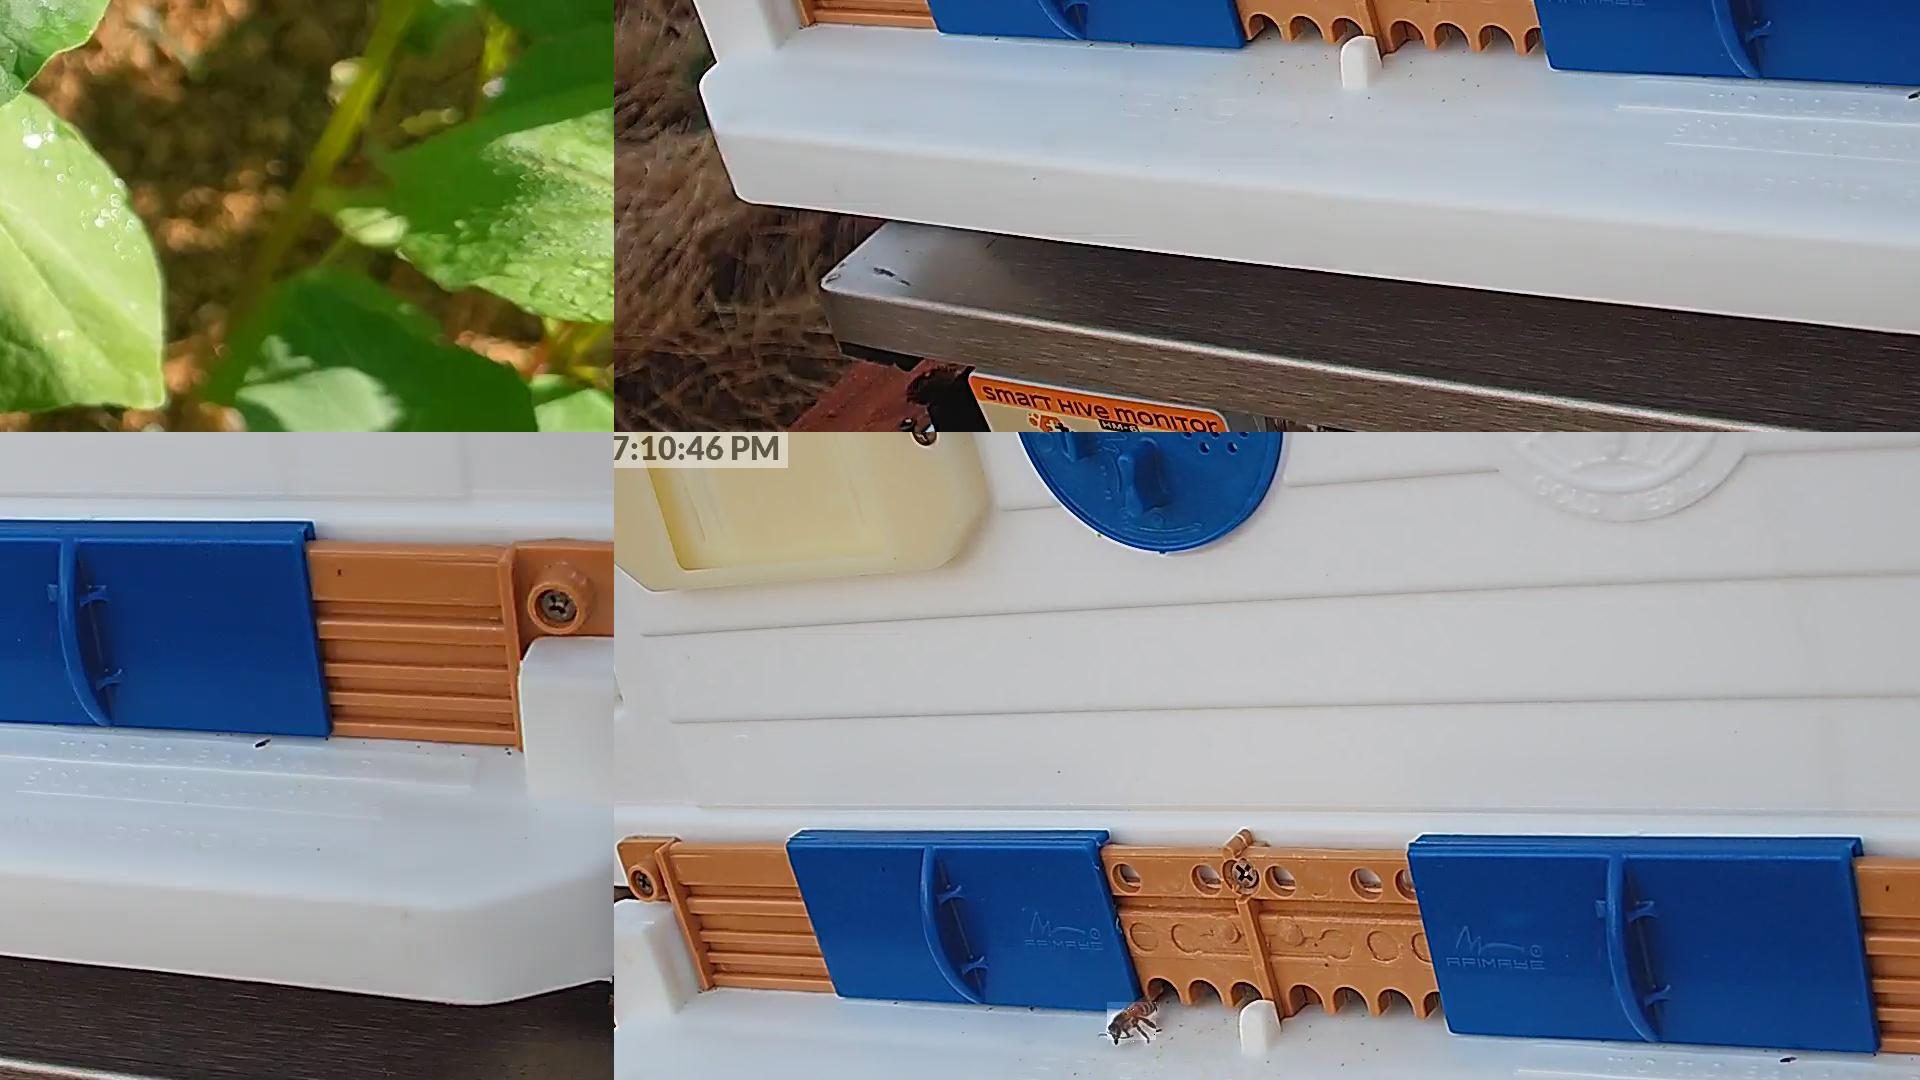bee: (1108, 1002, 1158, 1044)
